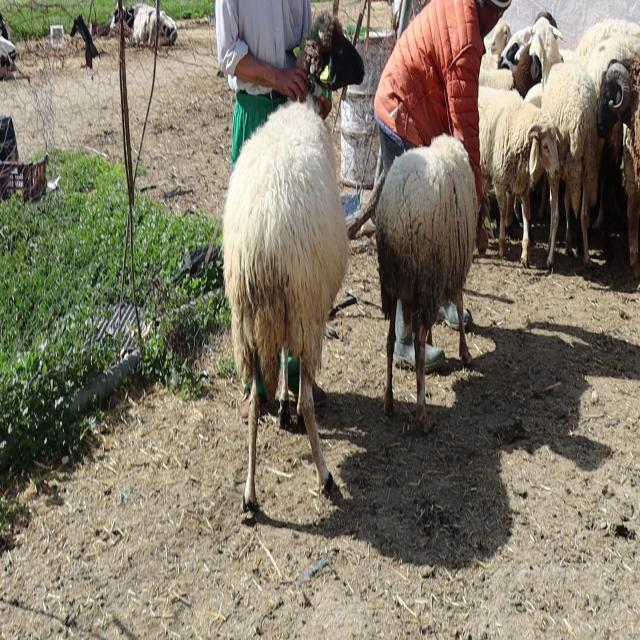Score_5: (222, 102, 349, 511)
